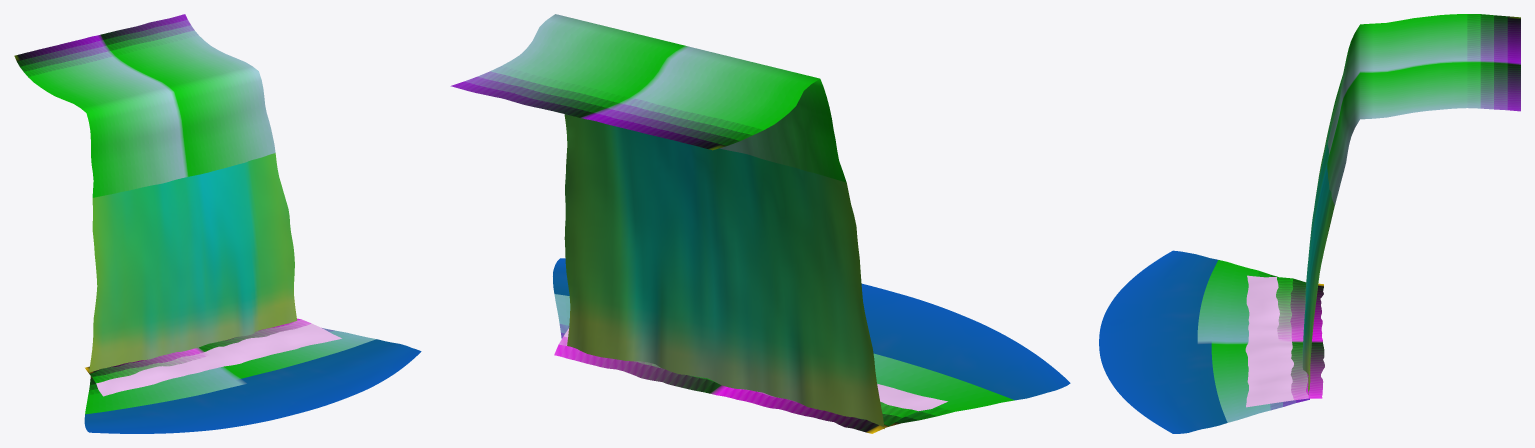
Rendered from Waterfall_URP_v2.fbx.
3 views of the same model, side by side, from view 1: azimuth 30°, elevation 25°; view 2: azimuth 150°, elevation 25°; view 3: azimuth 270°, elevation 25° (orthographic). The views are drawn at different scales.
Visible parts, largest first — view 1: Waterfall_Sheet, Waterfall_Pool, Waterfall_Foam; view 2: Waterfall_Sheet, Waterfall_Pool, Waterfall_Foam; view 3: Waterfall_Pool, Waterfall_Sheet, Waterfall_Foam.
Boxes of the visible parts, bbox=[...] form: Waterfall_Sheet: bbox=[14, 14, 296, 372]; Waterfall_Pool: bbox=[84, 328, 421, 433]; Waterfall_Foam: bbox=[85, 318, 341, 396]; Waterfall_Sheet: bbox=[450, 14, 884, 428]; Waterfall_Pool: bbox=[553, 258, 1070, 426]; Waterfall_Foam: bbox=[554, 328, 947, 433]; Waterfall_Pool: bbox=[1099, 250, 1309, 433]; Waterfall_Sheet: bbox=[1302, 14, 1520, 394]; Waterfall_Foam: bbox=[1245, 275, 1324, 407].
Bounding box in the file's own units: 8.64 × 6.11 × 8.4.
